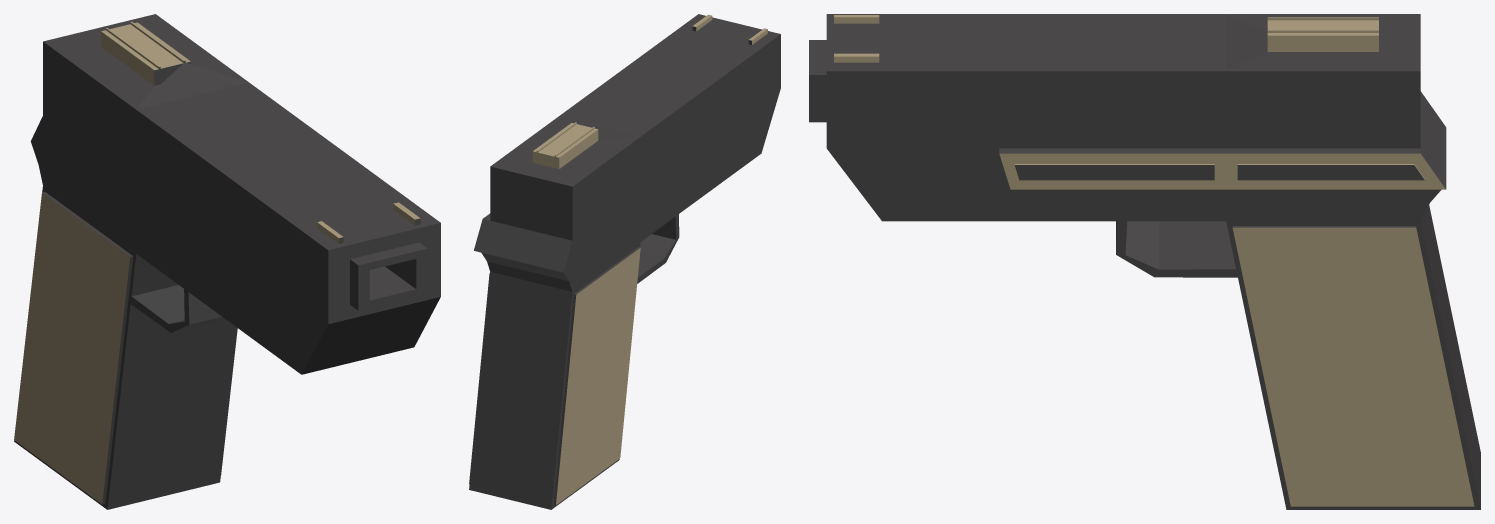
The model's file is Pistol.fbx.
3 views of the same model, side by side, from view 1: azimuth 30°, elevation 25°; view 2: azimuth 150°, elevation 25°; view 3: azimuth 270°, elevation 25° (orthographic). The views are drawn at different scales.
Parts seen in each view (by area): view 1: Pistol; view 2: Pistol; view 3: Pistol.
Part boxes in pixels (x1,y1,x2,y2): Pistol: (14, 14, 440, 509); Pistol: (469, 14, 780, 509); Pistol: (809, 14, 1480, 509).
Bounding box in the file's own units: 145 × 476 × 634.
